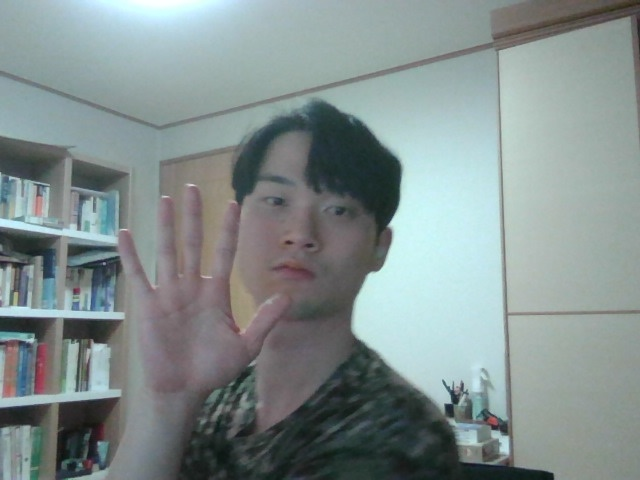hello: (100, 172, 304, 395)
